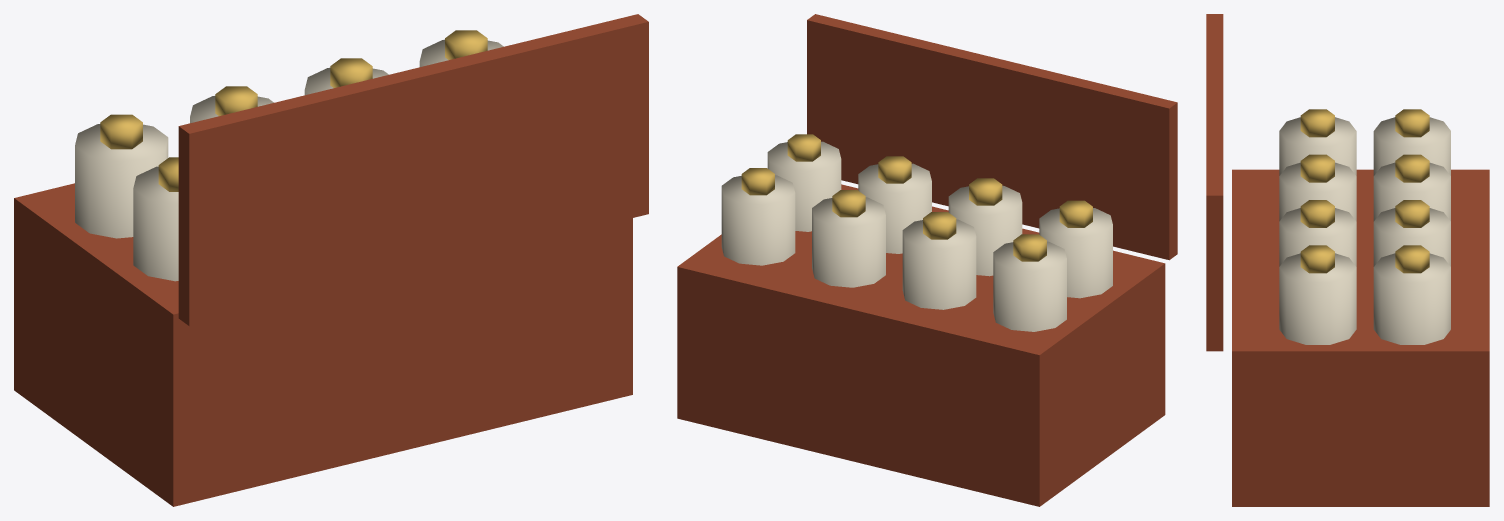
Rendered from SM_PRP_RolosPianola.fbx.
3 views of the same model, side by side, from view 1: azimuth 30°, elevation 25°; view 2: azimuth 150°, elevation 25°; view 3: azimuth 270°, elevation 25° (orthographic). The views are drawn at different scales.
Visible parts, largest first — view 1: SM_PRP_RolosPianola; view 2: SM_PRP_RolosPianola; view 3: SM_PRP_RolosPianola.
Boxes of the visible parts, x1,y1,x2,y2 form: SM_PRP_RolosPianola: [14, 14, 648, 506]; SM_PRP_RolosPianola: [677, 14, 1177, 506]; SM_PRP_RolosPianola: [1206, 14, 1489, 506].
Size of the model in its own units: 0.5 by 0.4 by 0.33.
